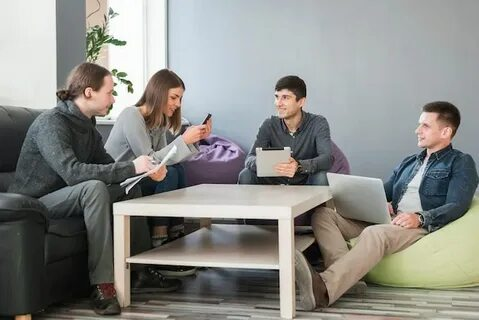awake: (295, 100, 478, 313), (13, 62, 141, 315), (105, 68, 213, 192), (236, 74, 332, 186)
